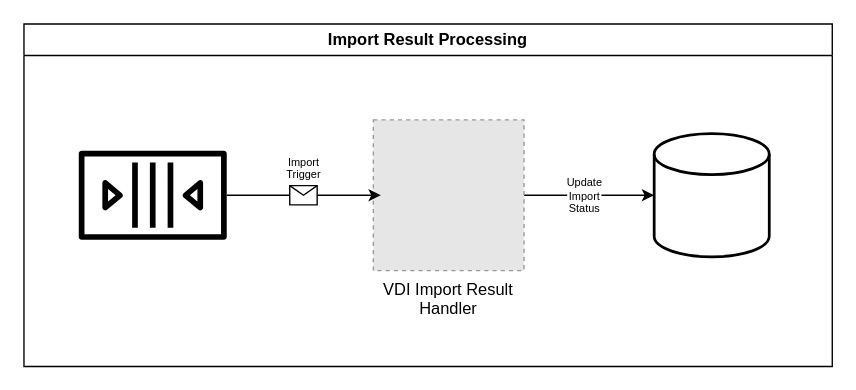
Some shapes in this 856 by 390 pixel diagram are drawn without their labels. Grey dashed boxes stand in for pictures. Each missing label, with the centre of its shape:
"Cache DB" goes at (x=711, y=195).
"vdi-import-results" goes at (x=152, y=194).
